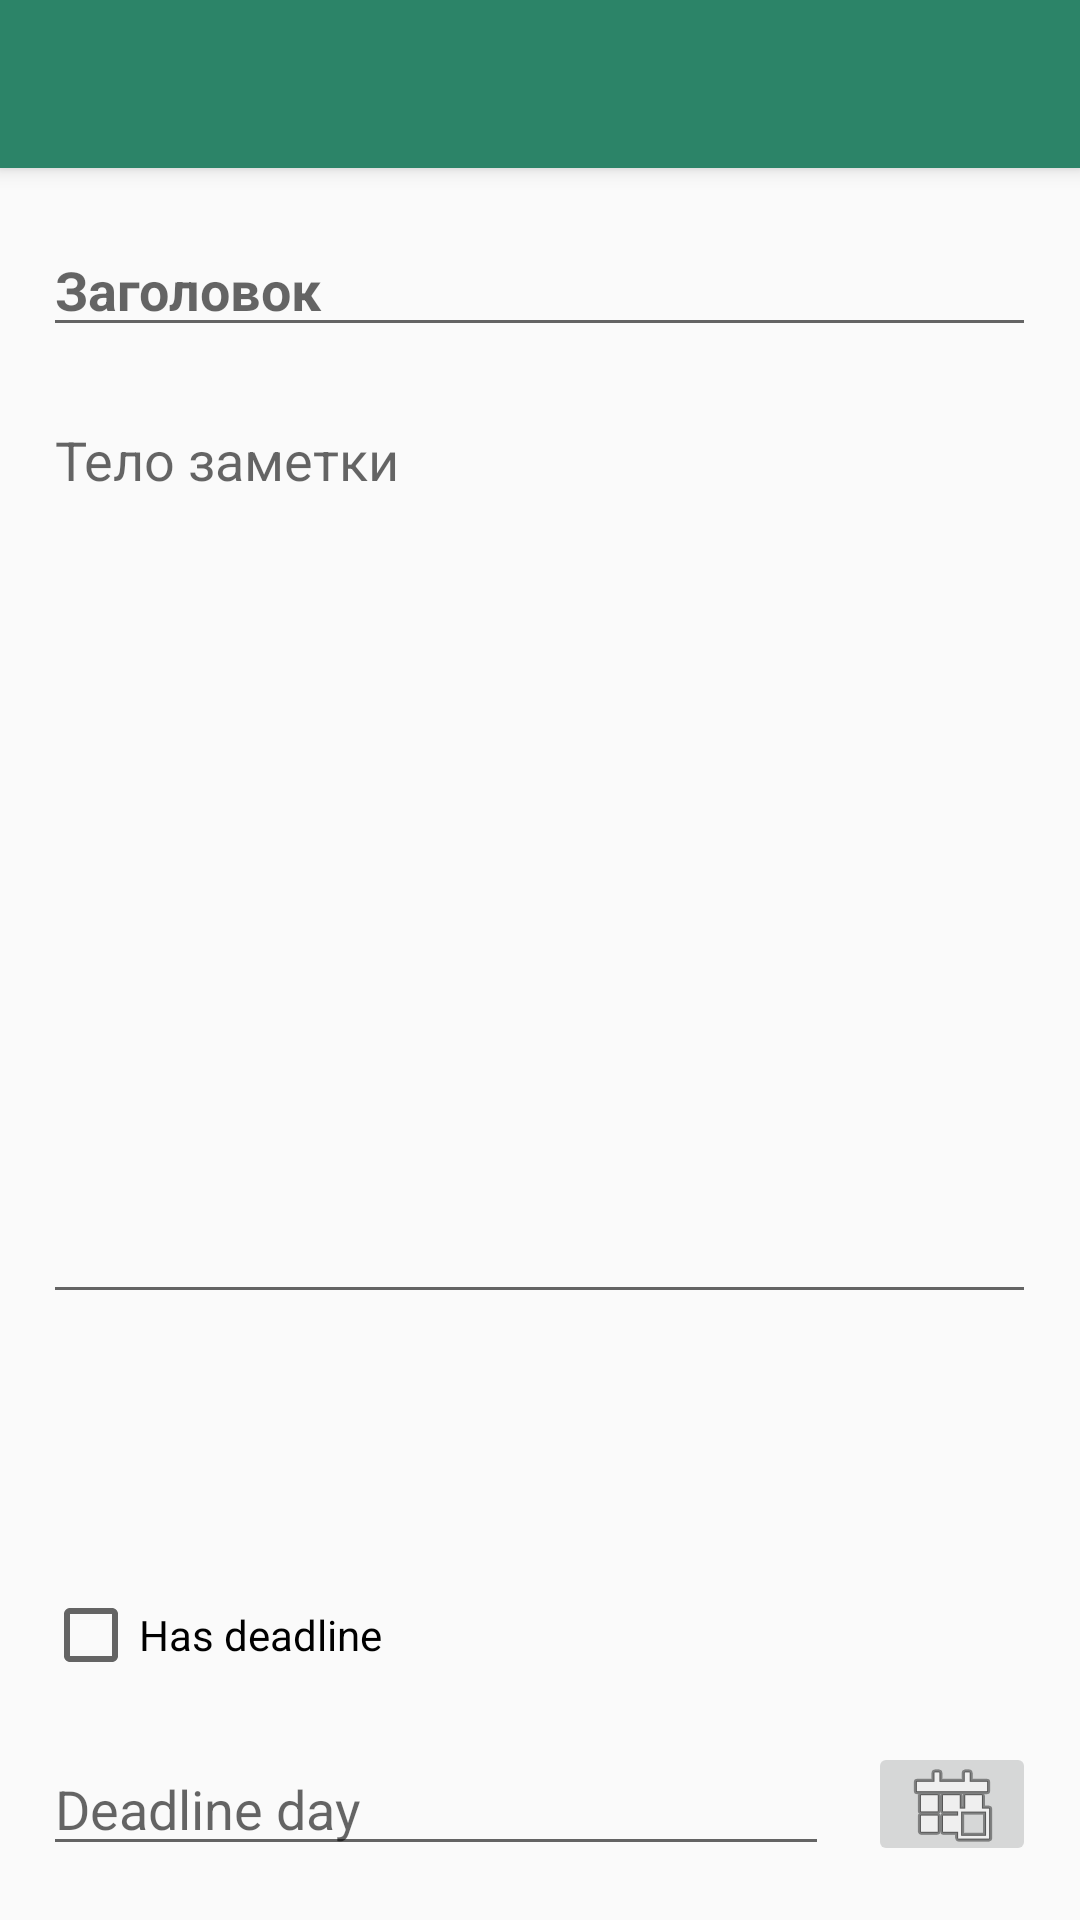

Icons on this 1080×1920 Android screen, each with its box as detection(x1, y1, x2, y2):
today: detection(880, 1760, 1024, 1848)
